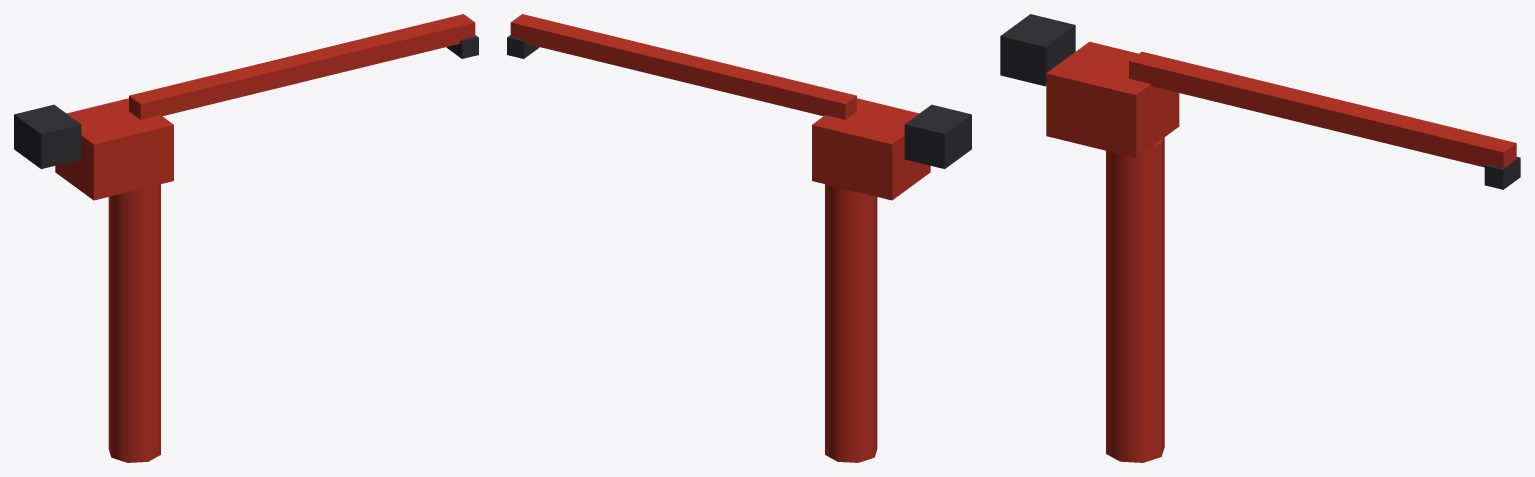
The model's file is crane.glb.
The picture shows the model from 3 angles, left to right: view 1: azimuth 30°, elevation 25°; view 2: azimuth 150°, elevation 25°; view 3: azimuth 330°, elevation 25°; orthographic projection. The views are drawn at different scales.
Parts seen in each view (by area): view 1: Tower, Jib, Cab, Counterweight, Sheave; view 2: Tower, Jib, Cab, Counterweight, Sheave; view 3: Tower, Jib, Cab, Counterweight, Sheave.
Part boxes in pixels (left/top/right/bottom): Tower: left=108, top=184, right=160, bottom=462; Jib: left=129, top=14, right=475, bottom=119; Cab: left=55, top=98, right=173, bottom=200; Counterweight: left=14, top=104, right=81, bottom=168; Sheave: left=446, top=35, right=478, bottom=58; Tower: left=825, top=184, right=877, bottom=462; Jib: left=510, top=14, right=856, bottom=119; Cab: left=812, top=98, right=930, bottom=200; Counterweight: left=904, top=104, right=971, bottom=168; Sheave: left=507, top=35, right=539, bottom=58; Tower: left=1106, top=137, right=1164, bottom=462; Jib: left=1129, top=51, right=1516, bottom=168; Cab: left=1046, top=41, right=1179, bottom=157; Counterweight: left=1000, top=14, right=1075, bottom=86; Sheave: left=1484, top=156, right=1520, bottom=189.
Bounding box in the file's own units: 13.25 × 10.1 × 2.
